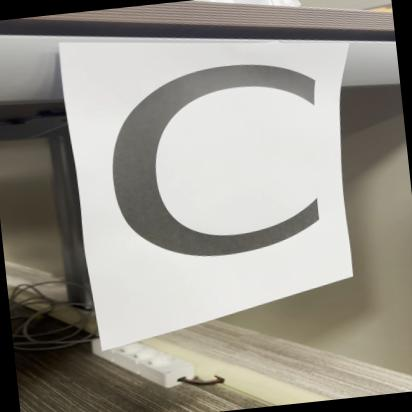seat: (62, 16, 363, 314)
